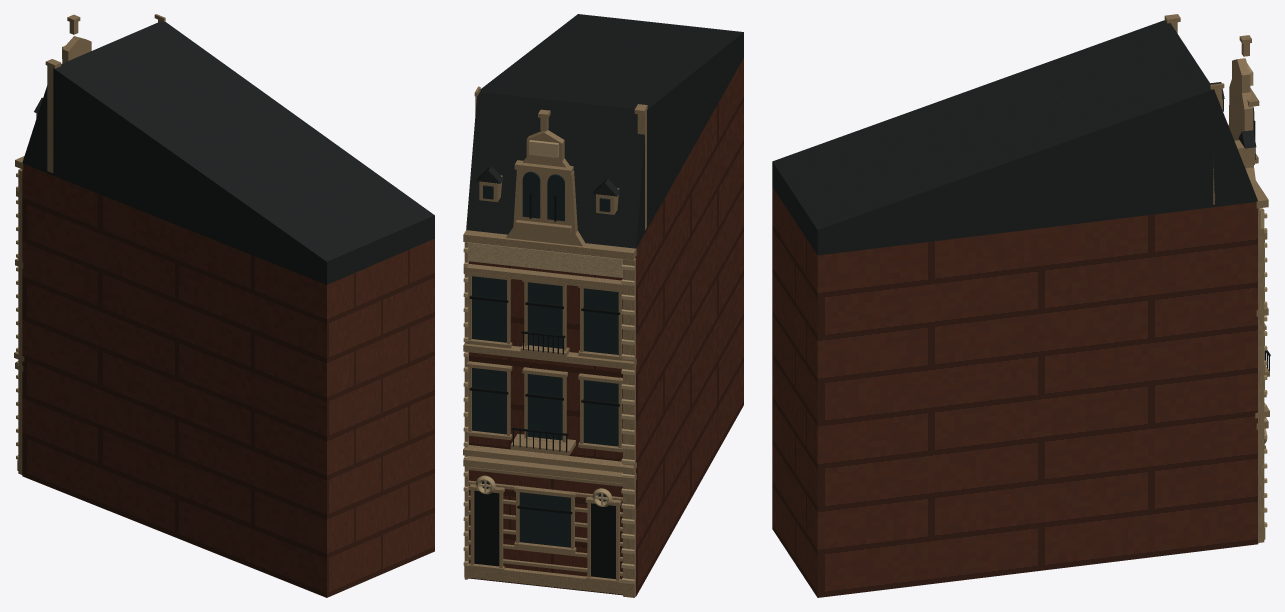
3 renders of one model, left to right at view 1: azimuth 30°, elevation 25°; view 2: azimuth 150°, elevation 25°; view 3: azimuth 270°, elevation 25°, orthographic. The views are drawn at different scales.
Visible parts, largest first — view 1: de-utrecht-wolfshoek4-0, de-utrecht-wolfshoek4-1, de-utrecht-wolfshoek4-2; view 2: de-utrecht-wolfshoek4-0, de-utrecht-wolfshoek4-1, de-utrecht-wolfshoek4-2, de-utrecht-wolfshoek4-3, de-utrecht-wolfshoek4-4, de-utrecht-wolfshoek4-5; view 3: de-utrecht-wolfshoek4-0, de-utrecht-wolfshoek4-1, de-utrecht-wolfshoek4-2, de-utrecht-wolfshoek4-4.
Part boxes in pixels (x1,y1,x2,y2): de-utrecht-wolfshoek4-0: (22,164,434,597); de-utrecht-wolfshoek4-1: (22,21,434,284); de-utrecht-wolfshoek4-2: (14,14,165,474); de-utrecht-wolfshoek4-0: (468,58,743,596); de-utrecht-wolfshoek4-1: (466,14,743,248); de-utrecht-wolfshoek4-2: (463,86,647,597); de-utrecht-wolfshoek4-3: (472,171,618,547); de-utrecht-wolfshoek4-4: (463,140,634,584); de-utrecht-wolfshoek4-5: (469,192,619,578); de-utrecht-wolfshoek4-0: (772,187,1258,597); de-utrecht-wolfshoek4-1: (772,20,1257,255); de-utrecht-wolfshoek4-2: (1164,14,1269,542); de-utrecht-wolfshoek4-4: (1247,63,1267,527).
Bounding box in the file's own units: 10.62 × 18.6 × 17.8.
6 materials, 6 textured.
